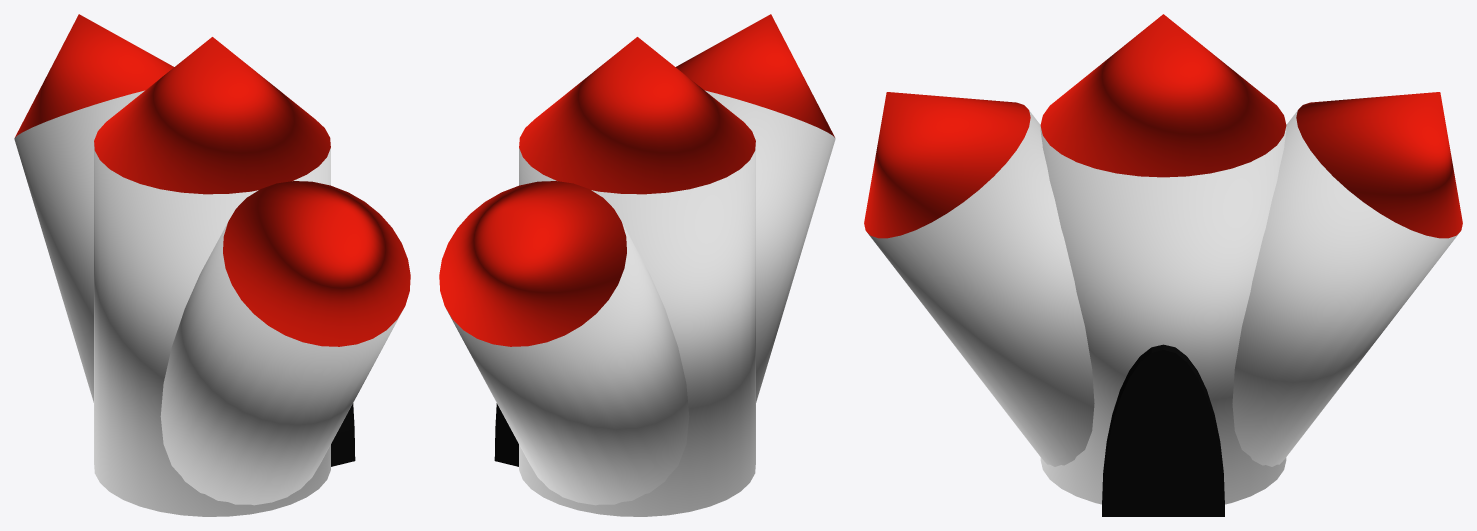
Rendered from circus.glb.
The picture shows the model from 3 angles, left to right: view 1: azimuth 30°, elevation 25°; view 2: azimuth 150°, elevation 25°; view 3: azimuth 270°, elevation 25°; orthographic projection. The views are drawn at different scales.
Parts seen in each view (by area): view 1: Cone; view 2: Cone; view 3: Cone.
Part boxes in pixels (x1,y1,x2,y2): Cone: [14, 14, 410, 516]; Cone: [439, 14, 835, 516]; Cone: [864, 14, 1462, 516].
Size of the model in its own units: 4.2 by 8 by 9.74.
